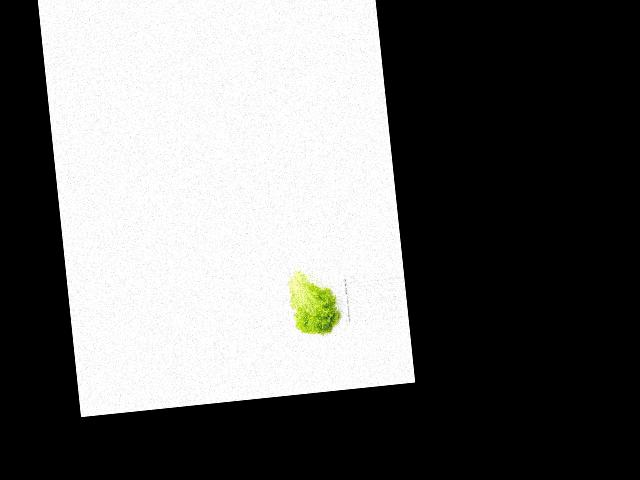lettuce: (284, 267, 342, 341)
